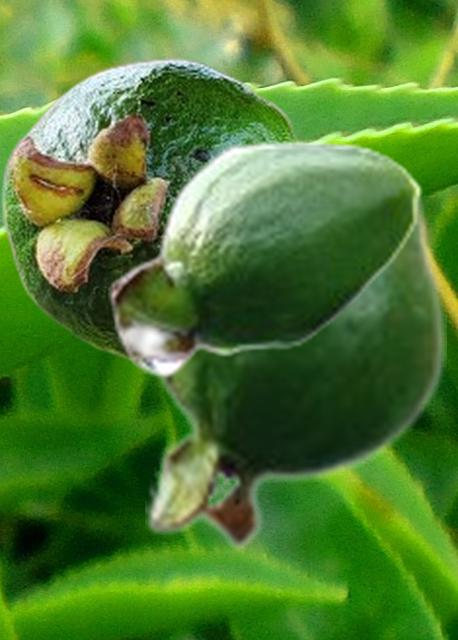guava: (145, 149, 445, 552), (0, 57, 302, 364), (108, 138, 422, 378)
